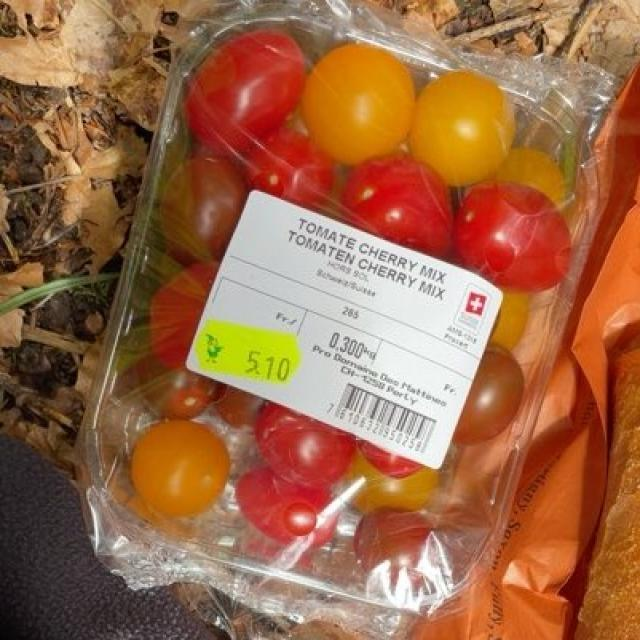tomato: (119, 57, 572, 575)
